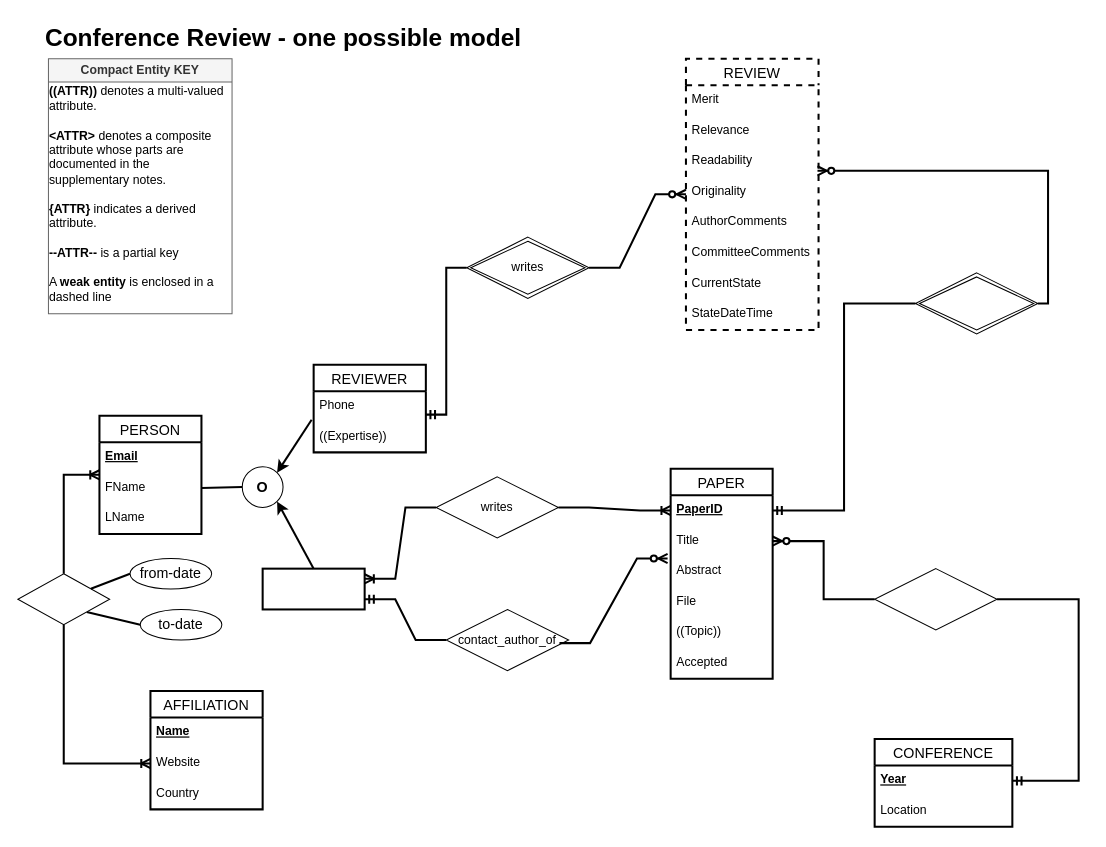
This 1106x847 diagram has some shape labels left out. Here are the shapes that lost their labels. From the top down, the centre of each, then its label:
At pixel 976 303: "has".
At pixel 63 599: "affiliated".
At pixel 313 588: "AUTHOR".
At pixel 935 599: "in".
